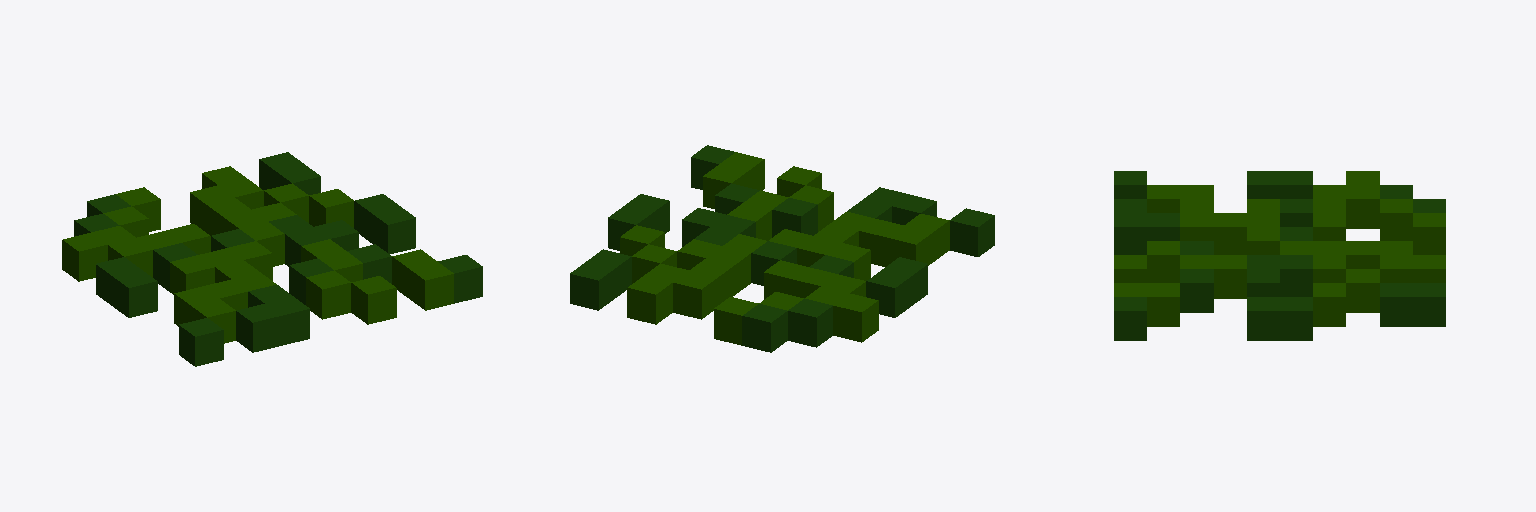
3 renders of one model, left to right at view 1: azimuth 30°, elevation 25°; view 2: azimuth 150°, elevation 25°; view 3: azimuth 270°, elevation 25°, orthographic.
Parts seen in each view (by area): view 1: Untitled; view 2: Untitled; view 3: Untitled.
Boxes of the visible parts, <box> form: Untitled: <box>62,152,482,366</box>; Untitled: <box>570,145,994,352</box>; Untitled: <box>1114,171,1445,340</box>.
Bounding box in the file's own units: 1 × 0.1 × 1.
1 materials, 1 textured.